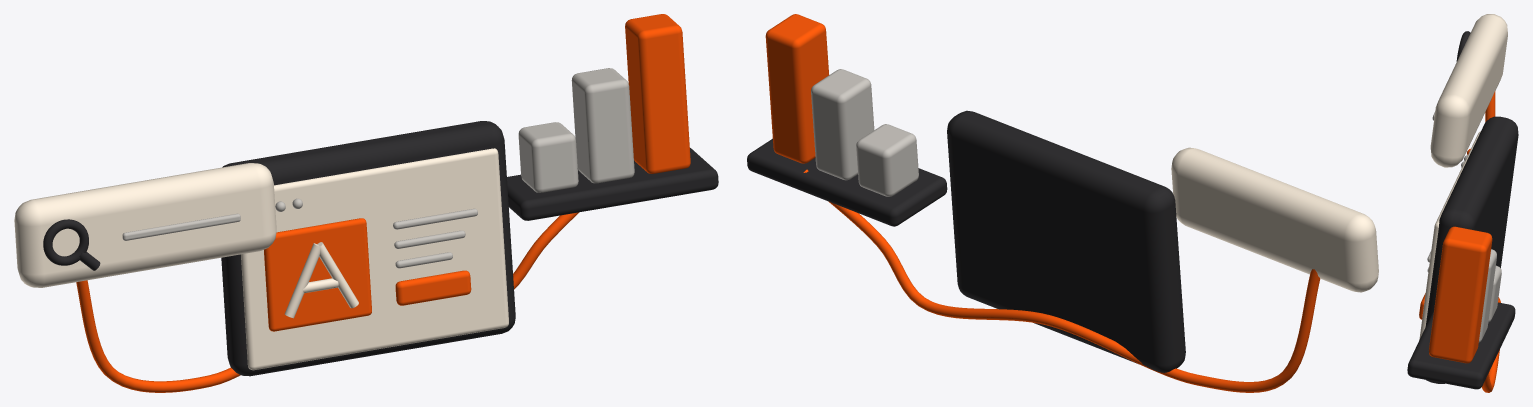
The model's file is alphalinkx-growth.glb.
3 renders of one model, left to right at view 1: azimuth 30°, elevation 25°; view 2: azimuth 150°, elevation 25°; view 3: azimuth 270°, elevation 25°, orthographic. The views are drawn at different scales.
Parts seen in each view (by area): view 1: Website, Growth, Discover, object 4; view 2: Website, Growth, Discover, object 4; view 3: Growth, Website, Discover, object 4.
Part boxes in pixels (left/top/right/bottom): Website: left=221, top=121, right=515, bottom=376; Growth: left=507, top=14, right=718, bottom=220; Discover: left=14, top=163, right=276, bottom=287; object 4: left=76, top=212, right=578, bottom=392; Website: left=947, top=110, right=1185, bottom=372; Growth: left=747, top=14, right=947, bottom=226; Discover: left=1171, top=147, right=1378, bottom=292; object 4: left=803, top=169, right=1320, bottom=392; Growth: left=1407, top=226, right=1515, bottom=389; Website: left=1419, top=116, right=1518, bottom=383; Discover: left=1430, top=14, right=1507, bottom=167; object 4: left=1482, top=91, right=1500, bottom=392.
Bounding box in the file's own units: 6.36 × 2.43 × 1.06.
